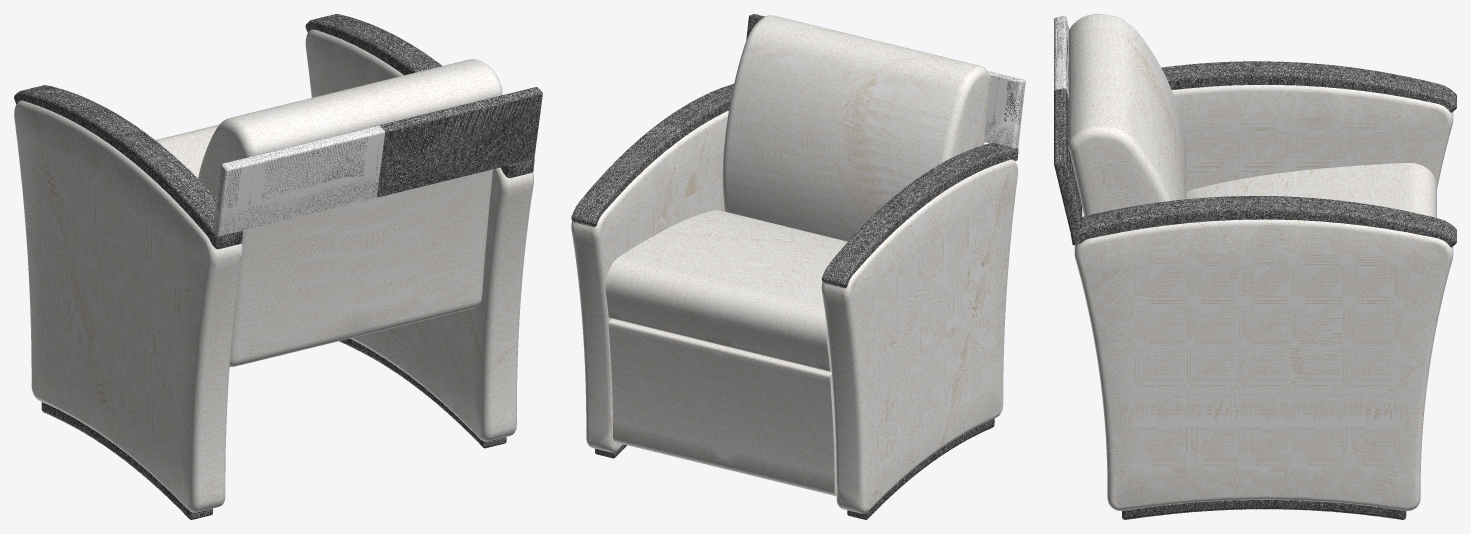
3 renders of one model, left to right at view 1: azimuth 30°, elevation 25°; view 2: azimuth 150°, elevation 25°; view 3: azimuth 270°, elevation 25°, orthographic. The views are drawn at different scales.
Parts seen in each view (by area): view 1: mesh13_mesh13-geometry, mesh6_mesh6-geometry, mesh5_mesh5-geometry, mesh10_mesh10-geometry, mesh2_mesh2-geometry, mesh1_mesh1-geometry, mesh12_mesh12-geometry, mesh11_mesh11-geometry, mesh14_mesh14-geometry, mesh3_mesh3-geometry, mesh9_mesh9-geometry; view 2: mesh13_mesh13-geometry, mesh5_mesh5-geometry, mesh6_mesh6-geometry, mesh10_mesh10-geometry, mesh4_mesh4-geometry, mesh7_mesh7-geometry, mesh8_mesh8-geometry, mesh3_mesh3-geometry, mesh12_mesh12-geometry, mesh11_mesh11-geometry, mesh2_mesh2-geometry, mesh14_mesh14-geometry; view 3: mesh10_mesh10-geometry, mesh13_mesh13-geometry, mesh5_mesh5-geometry, mesh11_mesh11-geometry, mesh3_mesh3-geometry, mesh12_mesh12-geometry, mesh6_mesh6-geometry, mesh9_mesh9-geometry, mesh1_mesh1-geometry, mesh2_mesh2-geometry.
Part boxes in pixels (bbox=[...]): mesh13_mesh13-geometry: bbox=[14, 100, 242, 512]; mesh6_mesh6-geometry: bbox=[198, 88, 377, 366]; mesh5_mesh5-geometry: bbox=[351, 59, 502, 337]; mesh10_mesh10-geometry: bbox=[305, 29, 534, 441]; mesh2_mesh2-geometry: bbox=[212, 125, 384, 235]; mesh1_mesh1-geometry: bbox=[376, 87, 542, 197]; mesh12_mesh12-geometry: bbox=[14, 85, 242, 249]; mesh11_mesh11-geometry: bbox=[305, 14, 534, 178]; mesh14_mesh14-geometry: bbox=[41, 402, 212, 519]; mesh3_mesh3-geometry: bbox=[155, 131, 208, 177]; mesh9_mesh9-geometry: bbox=[339, 338, 506, 448]; mesh13_mesh13-geometry: bbox=[821, 159, 1018, 513]; mesh5_mesh5-geometry: bbox=[722, 15, 875, 237]; mesh6_mesh6-geometry: bbox=[830, 40, 990, 241]; mesh10_mesh10-geometry: bbox=[571, 110, 728, 452]; mesh4_mesh4-geometry: bbox=[605, 210, 827, 344]; mesh7_mesh7-geometry: bbox=[719, 346, 836, 496]; mesh8_mesh8-geometry: bbox=[608, 319, 725, 469]; mesh3_mesh3-geometry: bbox=[716, 237, 847, 371]; mesh12_mesh12-geometry: bbox=[822, 142, 1018, 288]; mesh11_mesh11-geometry: bbox=[571, 84, 733, 227]; mesh2_mesh2-geometry: bbox=[984, 71, 1025, 148]; mesh14_mesh14-geometry: bbox=[847, 418, 994, 519]; mesh10_mesh10-geometry: bbox=[1074, 219, 1453, 510]; mesh13_mesh13-geometry: bbox=[1172, 85, 1453, 192]; mesh5_mesh5-geometry: bbox=[1068, 70, 1185, 216]; mesh11_mesh11-geometry: bbox=[1070, 196, 1456, 247]; mesh3_mesh3-geometry: bbox=[1186, 163, 1436, 217]; mesh12_mesh12-geometry: bbox=[1161, 61, 1456, 112]; mesh6_mesh6-geometry: bbox=[1068, 14, 1186, 199]; mesh9_mesh9-geometry: bbox=[1122, 500, 1406, 519]; mesh1_mesh1-geometry: bbox=[1054, 88, 1082, 231]; mesh2_mesh2-geometry: bbox=[1054, 16, 1069, 97].
Bounding box in the file's own units: 0.5224 × 0.6128 × 0.5929.
